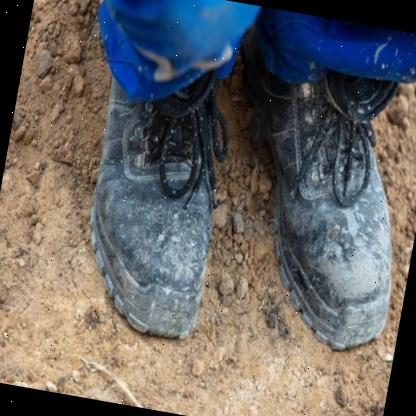bota: (210, 53, 416, 363), (66, 46, 246, 348)
